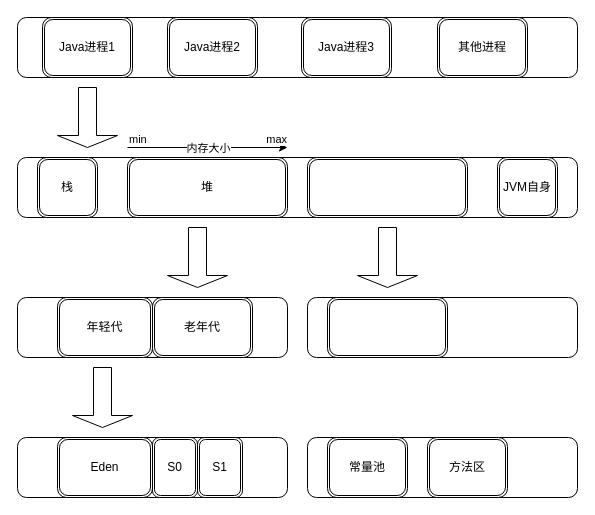
The diagram is 595 pixels wide and 515 high, and some of its shapes have lost their labels. Each missing label, with the centre of its shape:
元数据: the point at 387,327
非堆: the point at 387,187
